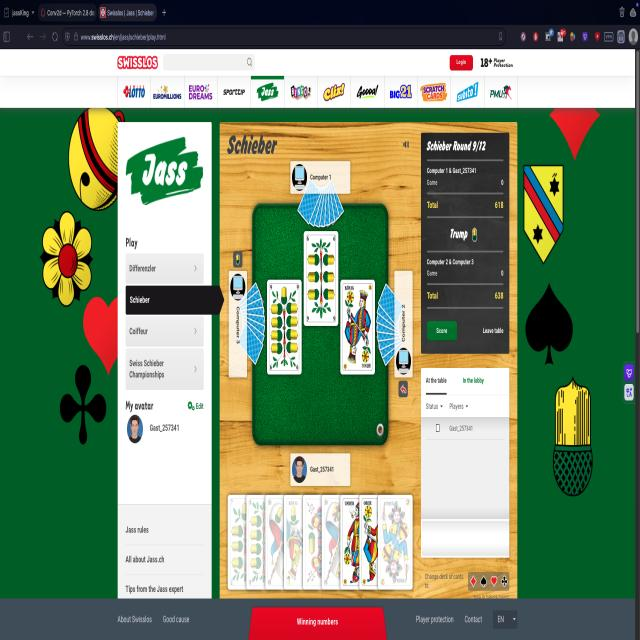ei10: (266, 495, 300, 590)
ei7: (228, 494, 264, 592)
ei8: (248, 495, 279, 589)
ei9: (268, 279, 301, 373)
eia: (303, 495, 336, 588)
eik: (285, 496, 321, 588), (305, 232, 338, 325)
rok: (341, 282, 375, 375)
roo: (361, 496, 394, 590)
rou: (341, 494, 378, 585)
seu: (378, 496, 412, 588)
si10: (323, 495, 357, 590)
